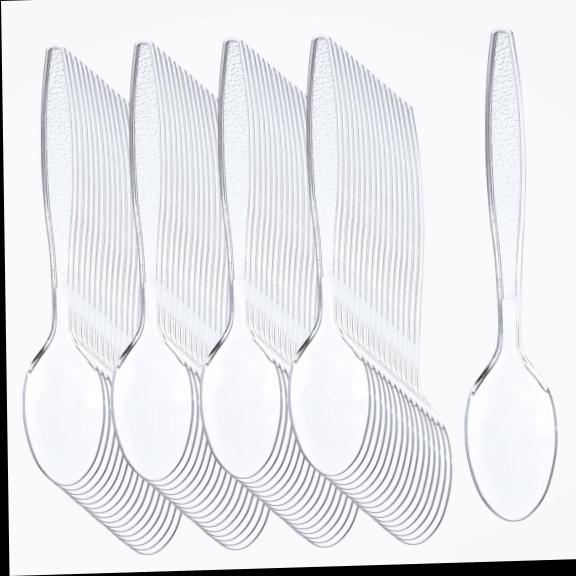Plastik: (464, 29, 556, 519), (288, 37, 375, 475), (23, 47, 107, 488), (111, 42, 193, 482), (200, 39, 281, 479)
